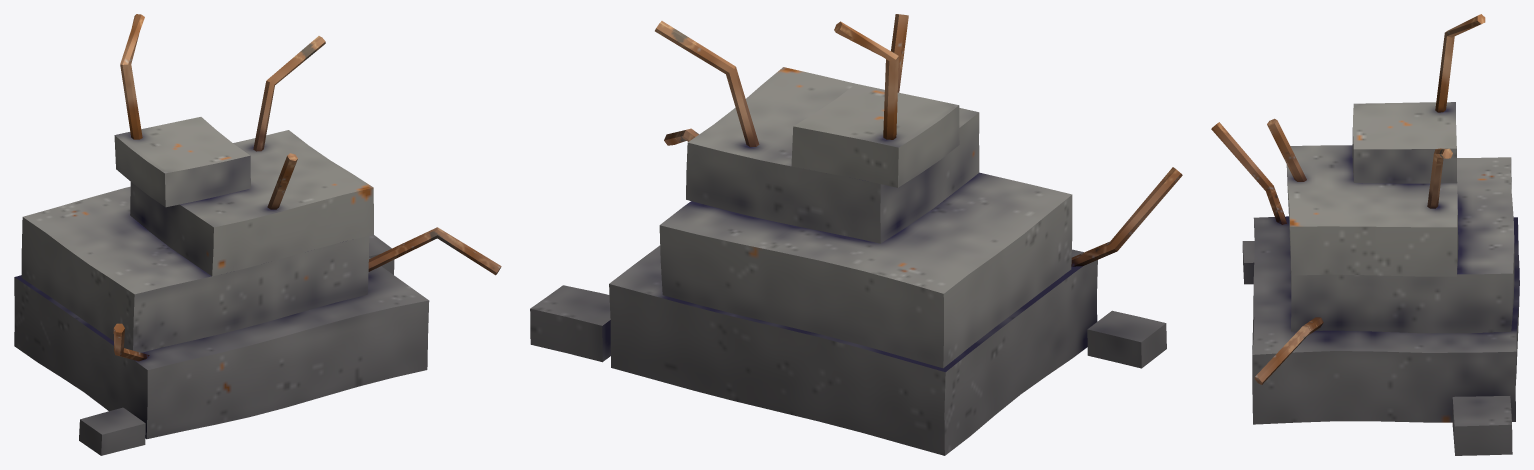
File: RockConcrete.glb
3 views of the same model, side by side, from view 1: azimuth 30°, elevation 25°; view 2: azimuth 150°, elevation 25°; view 3: azimuth 270°, elevation 25° (orthographic). The views are drawn at different scales.
Parts seen in each view (by area): view 1: Concrete, Rebar; view 2: Concrete, Rebar; view 3: Concrete, Rebar.
Boxes of the visible parts, <box> form: Concrete: <box>14,117,429,455</box>; Rebar: <box>113,14,501,361</box>; Concrete: <box>530,67,1166,455</box>; Rebar: <box>655,14,1182,266</box>; Concrete: <box>1242,102,1519,455</box>; Rebar: <box>1211,14,1485,384</box>.
Bounding box in the file's own units: 4.36 × 3.27 × 2.8.
Materials: 2 (2 with a texture image).
